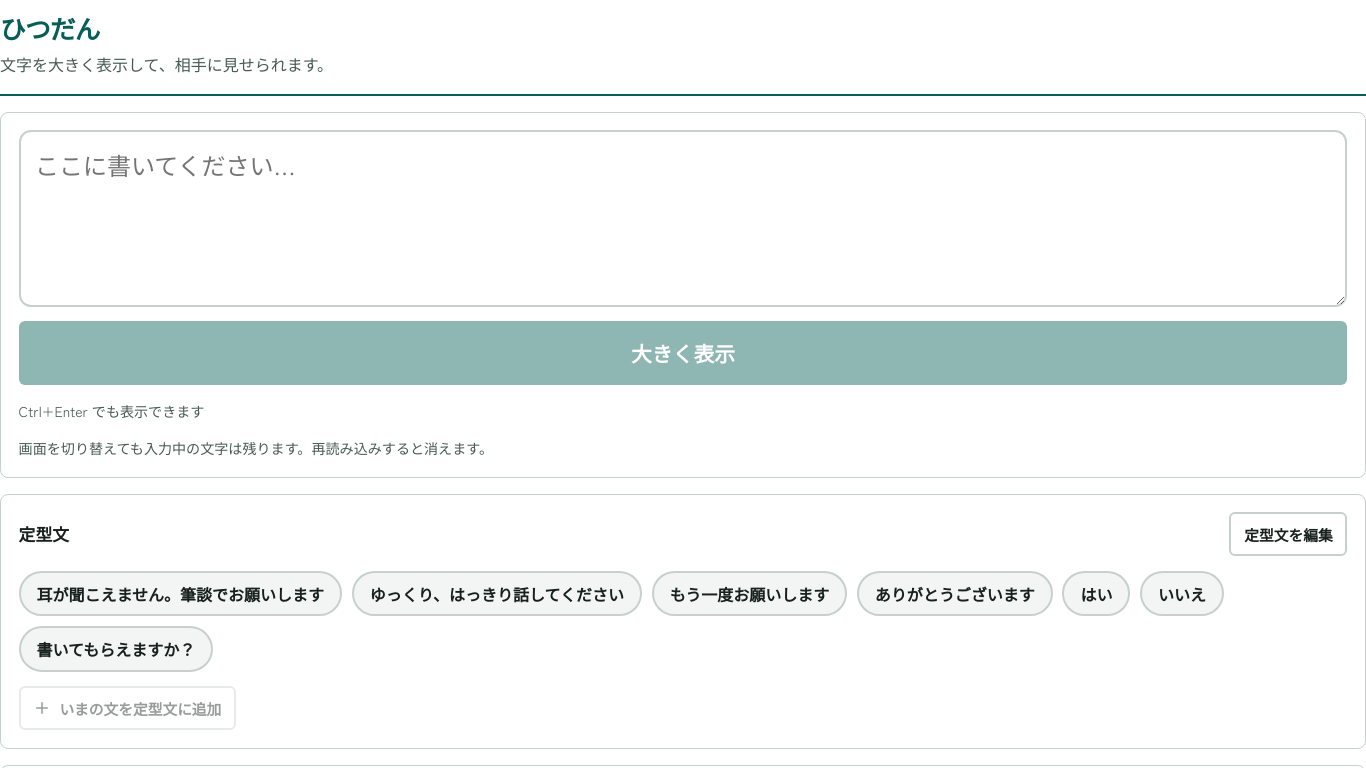
Board › closes with Escape and returns to compose
Type "テスト" into the text box named "ひつだん" at (683,219), box top-left (19, 130), bottom-right (1347, 307)
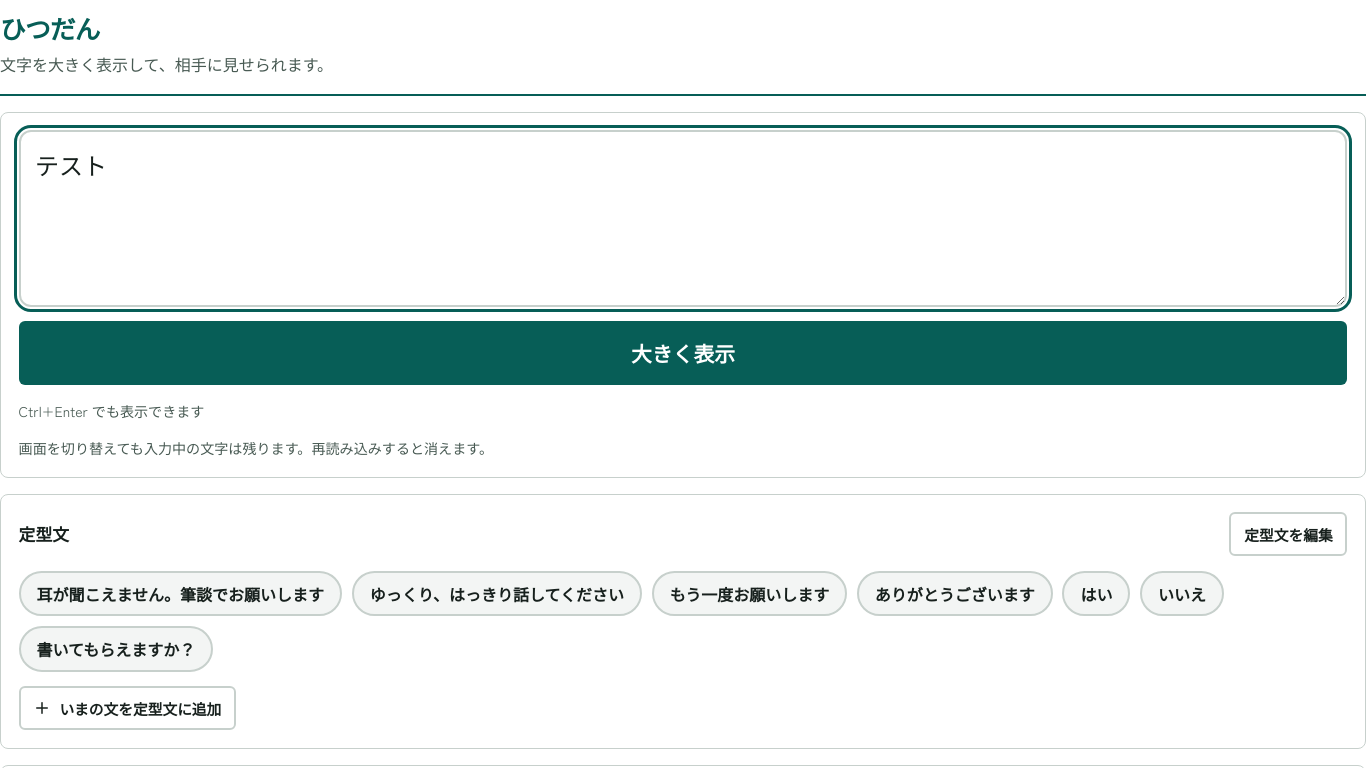
Click the button "大きく表示" at (683,354), box top-left (19, 322), bottom-right (1347, 386)
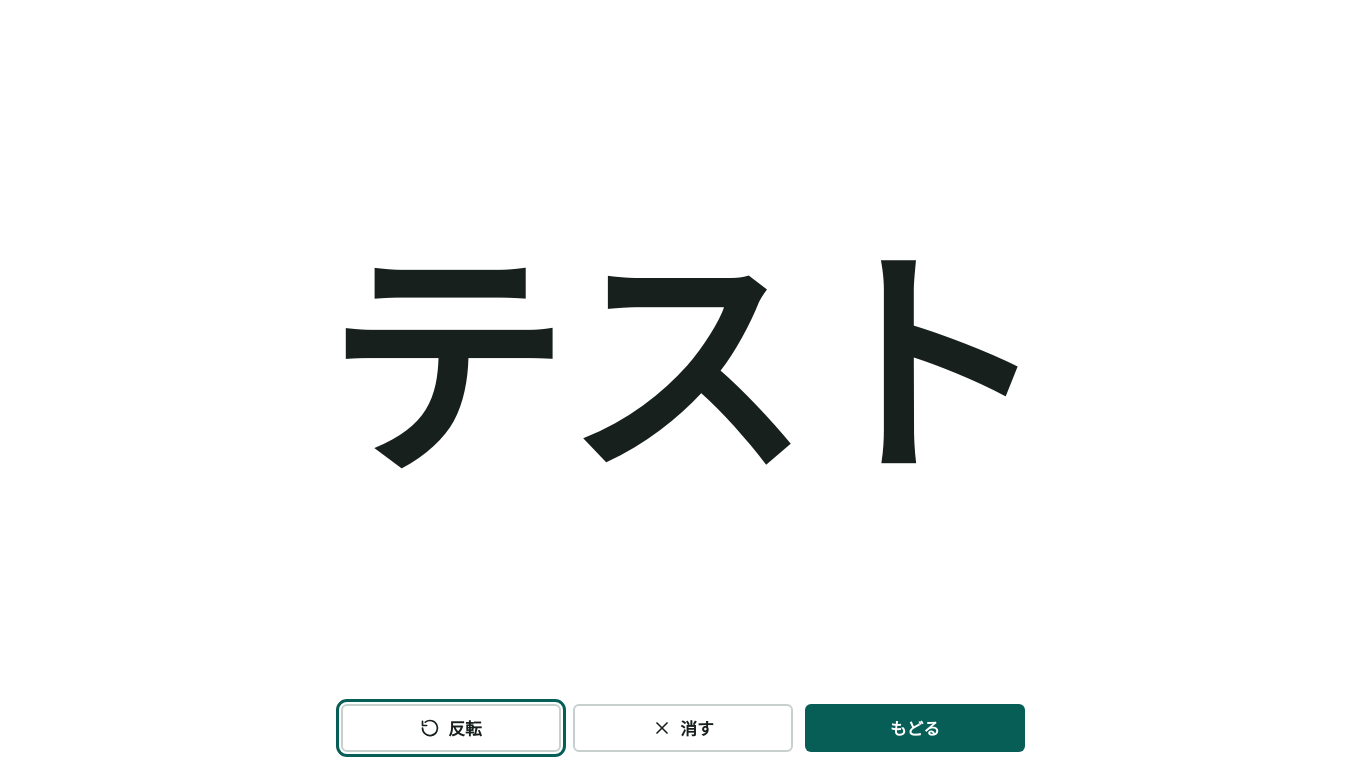
Result: the dialog is shown
Press Escape
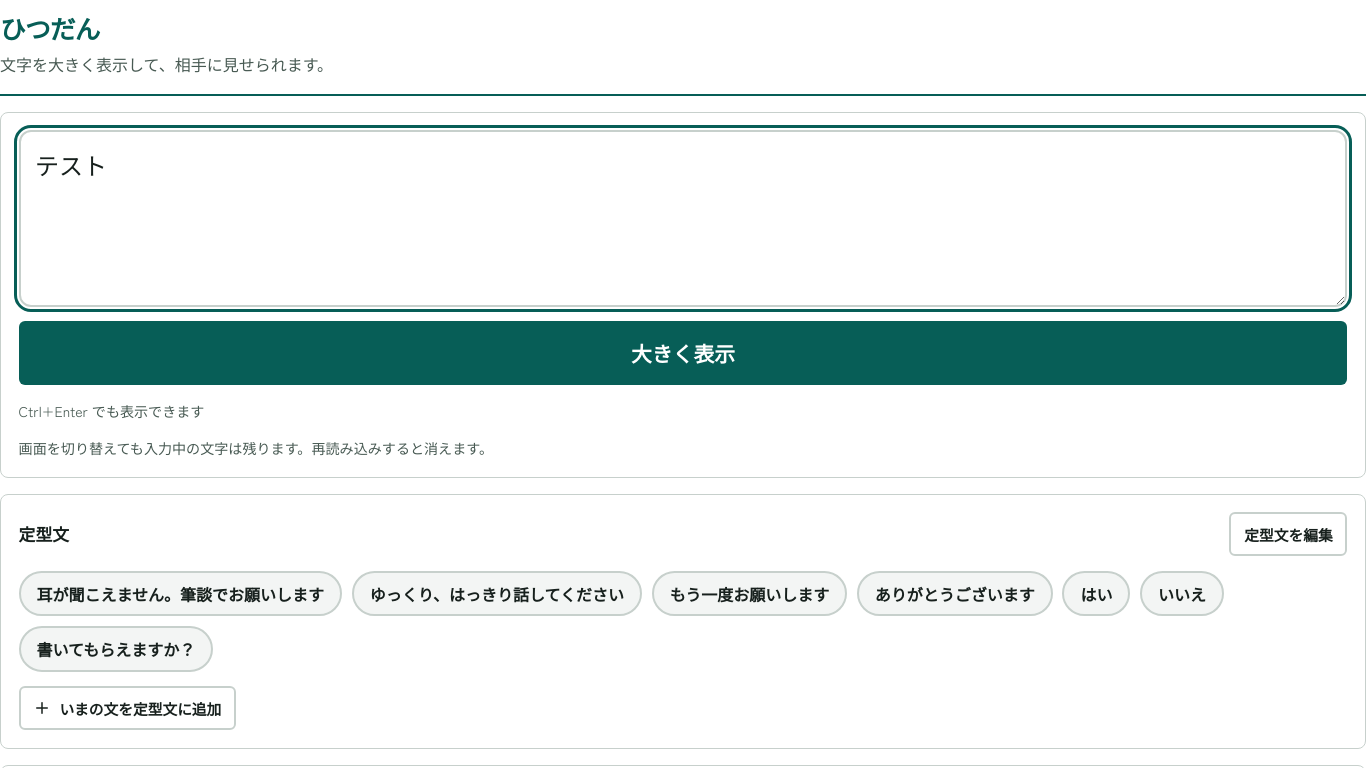
Result: the dialog is gone
